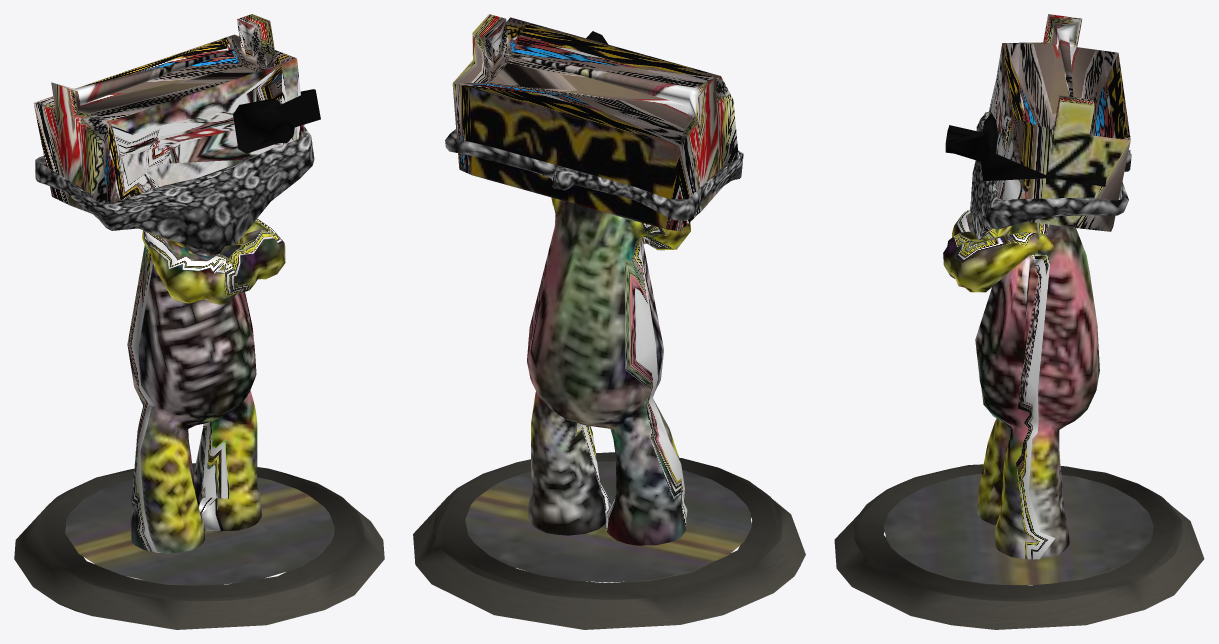
3 views of the same model, side by side, from view 1: azimuth 30°, elevation 25°; view 2: azimuth 150°, elevation 25°; view 3: azimuth 270°, elevation 25° (orthographic). The views are drawn at different scales.
Bounding box in the file's own units: 1.44 × 2.13 × 1.44.
6 materials, 5 textured.
